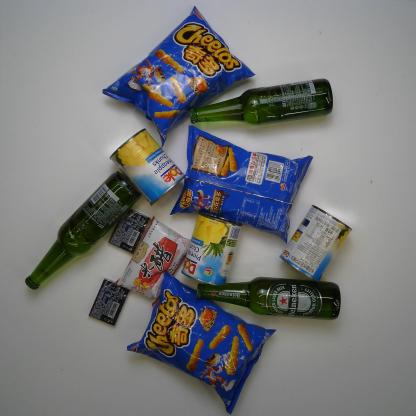Alcohol: (23, 170, 143, 292), (186, 76, 336, 126), (195, 275, 343, 322)
Canned Food: (108, 127, 186, 207), (279, 204, 354, 283), (180, 210, 244, 288)
Gum: (88, 277, 132, 327), (108, 207, 152, 256)
Puffed Food: (125, 268, 279, 416), (101, 5, 257, 149), (170, 124, 315, 245)
Seasoner: (114, 215, 192, 308)
